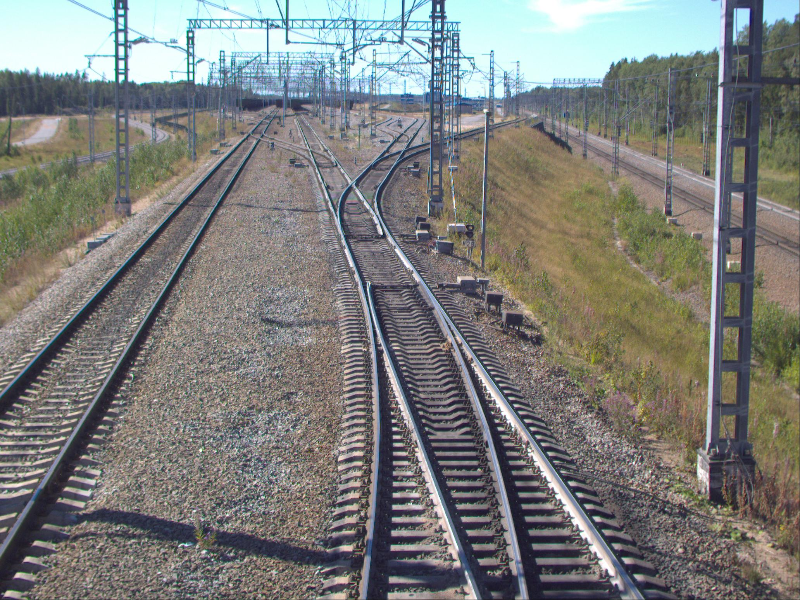right: (333, 207, 392, 236)
